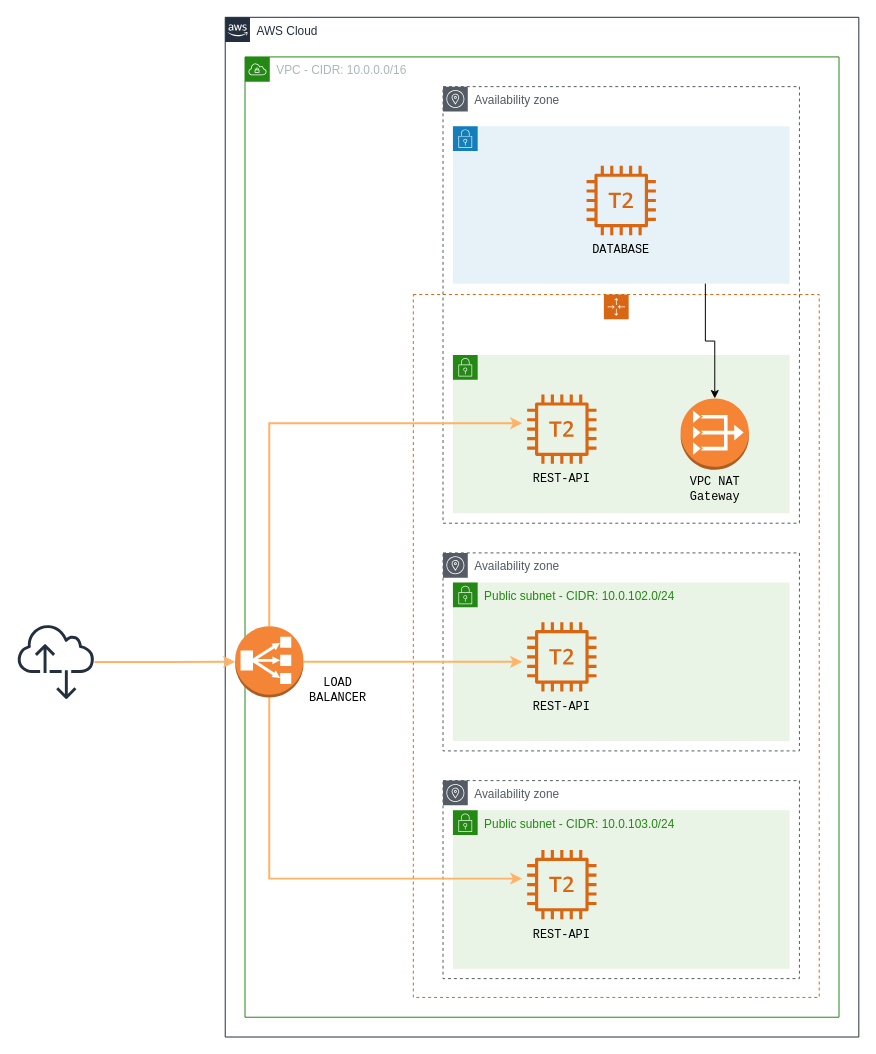
The diagram is 876 pixels wide and 1054 high, and some of its shapes have lost their labels. Here are the shapes that lost their labels. From the top down, the box of each, then its label:
(452, 125, 790, 284): Private subnet - CIDR: 10.0.1.0/24
(452, 354, 790, 513): Public subnet - CIDR: 10.0.101.0/24
(412, 294, 819, 997): Auto Scaling group
